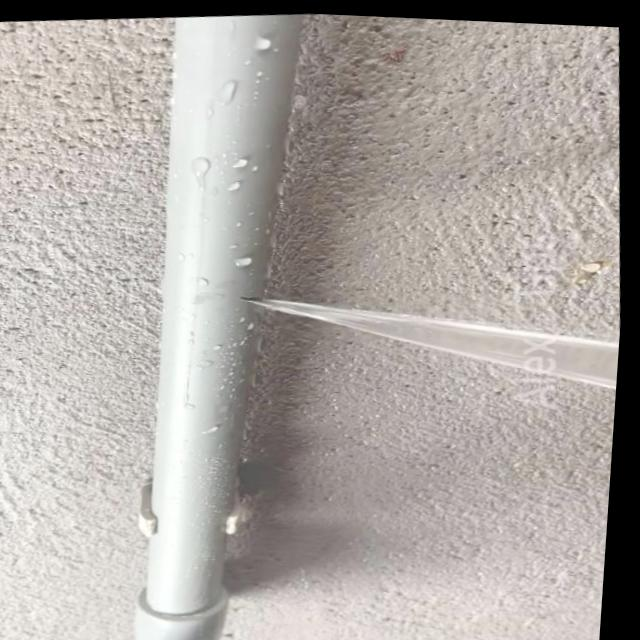leak: (245, 299, 619, 391)
